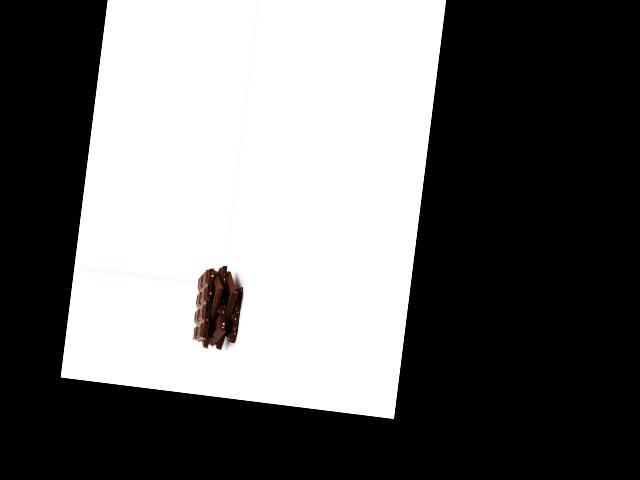chocolate: (209, 270, 249, 350)
